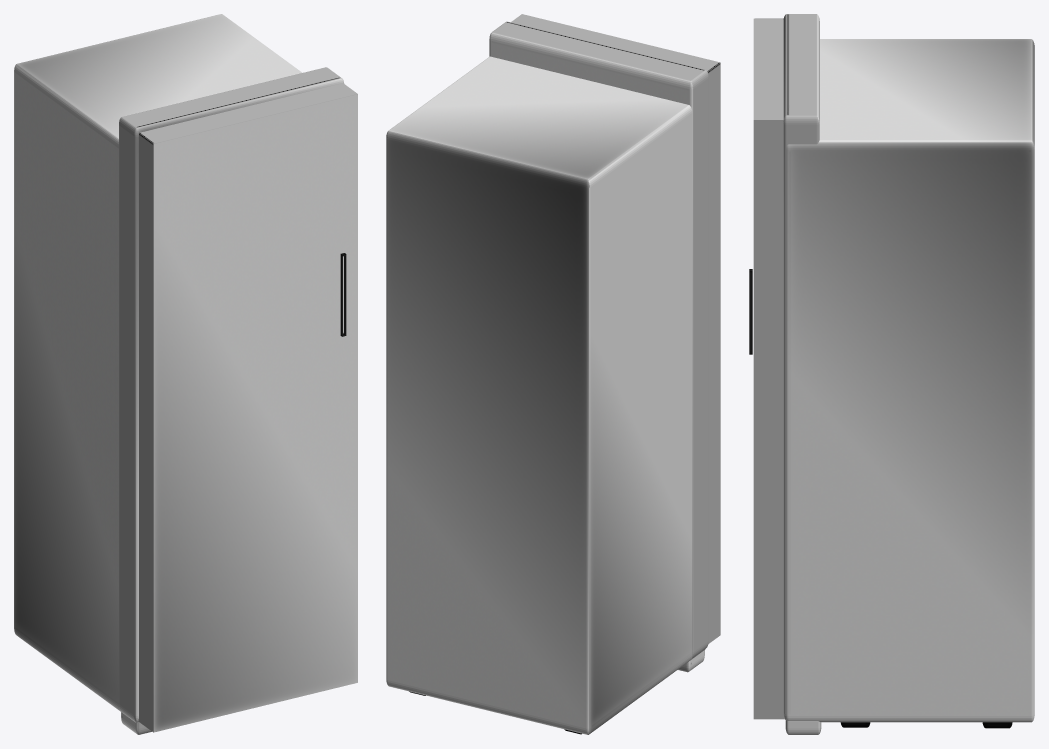
File: fridge.obj
3 views of the same model, side by side, from view 1: azimuth 30°, elevation 25°; view 2: azimuth 150°, elevation 25°; view 3: azimuth 270°, elevation 25° (orthographic). The views are drawn at different scales.
Visible parts, largest first — view 1: Cube.001; view 2: Cube.001; view 3: Cube.001.
Part boxes in pixels (bbox=[...]): Cube.001: bbox=[14, 14, 357, 734]; Cube.001: bbox=[386, 14, 720, 734]; Cube.001: bbox=[749, 14, 1034, 734].
Size of the model in its own units: 0.67 by 1.85 by 0.772.
